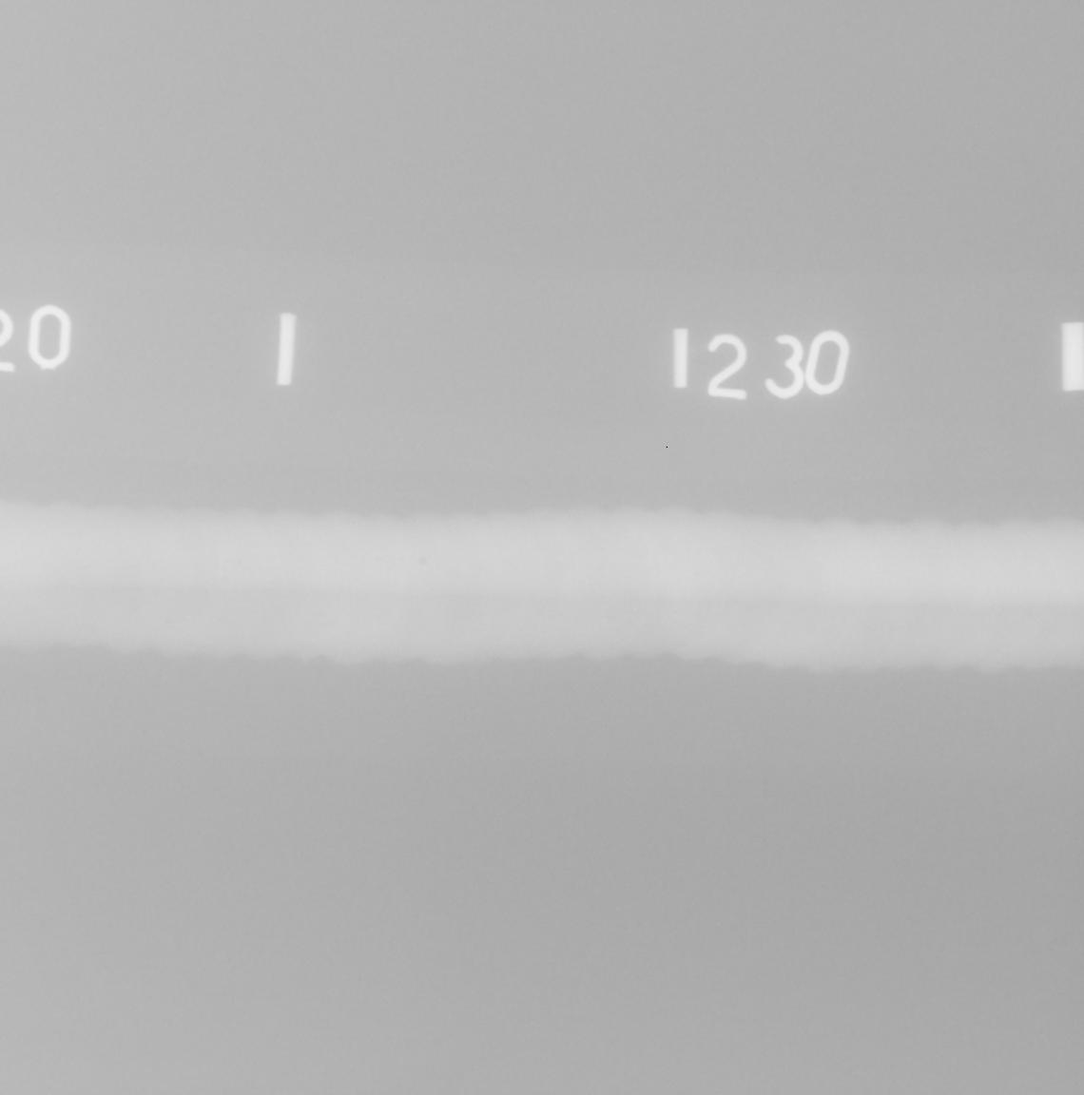Pore/Porosity: (1026, 609, 1034, 617), (418, 558, 427, 565), (131, 601, 138, 610), (375, 557, 382, 561), (694, 572, 699, 576), (400, 557, 404, 560)
